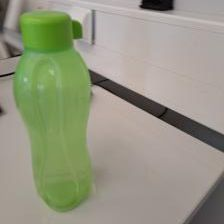bottle: (9, 8, 97, 213)
